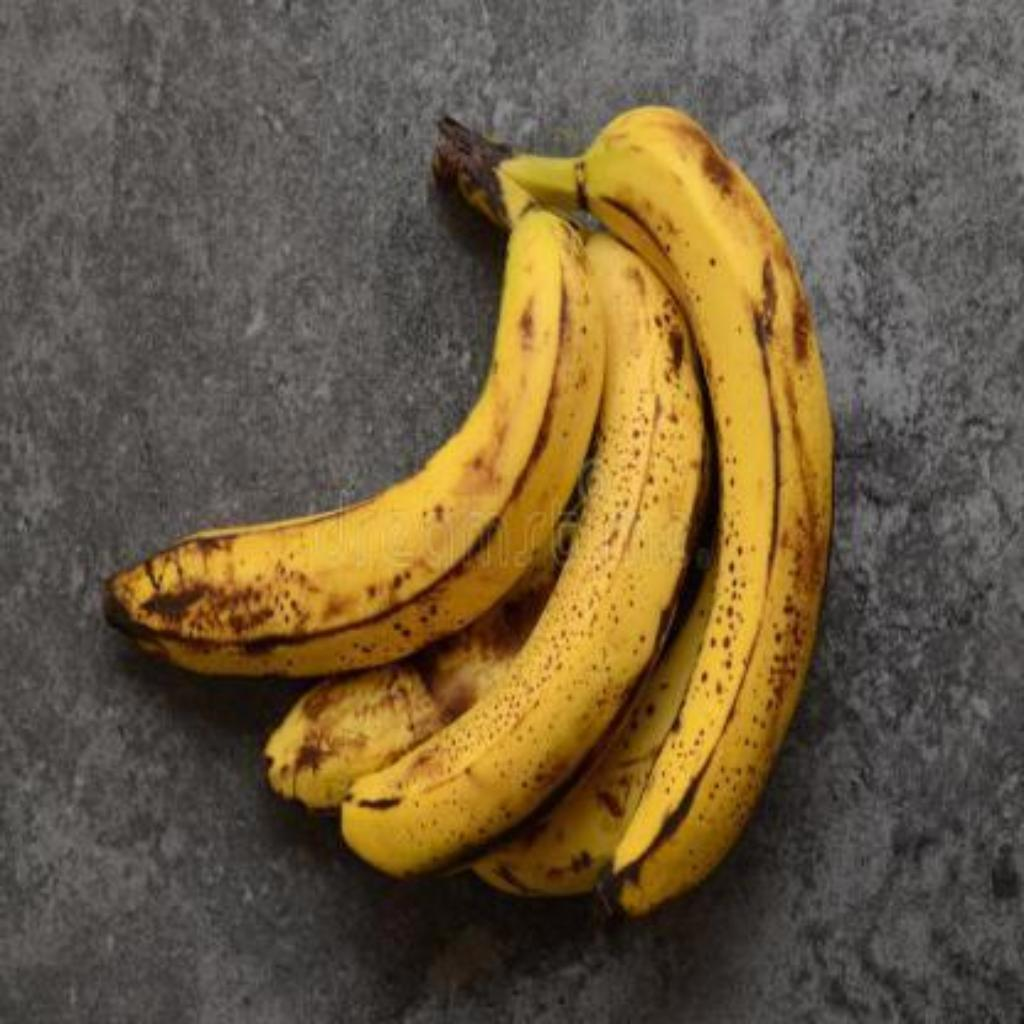banana: (475, 130, 834, 923), (266, 231, 699, 881), (103, 158, 601, 677)
